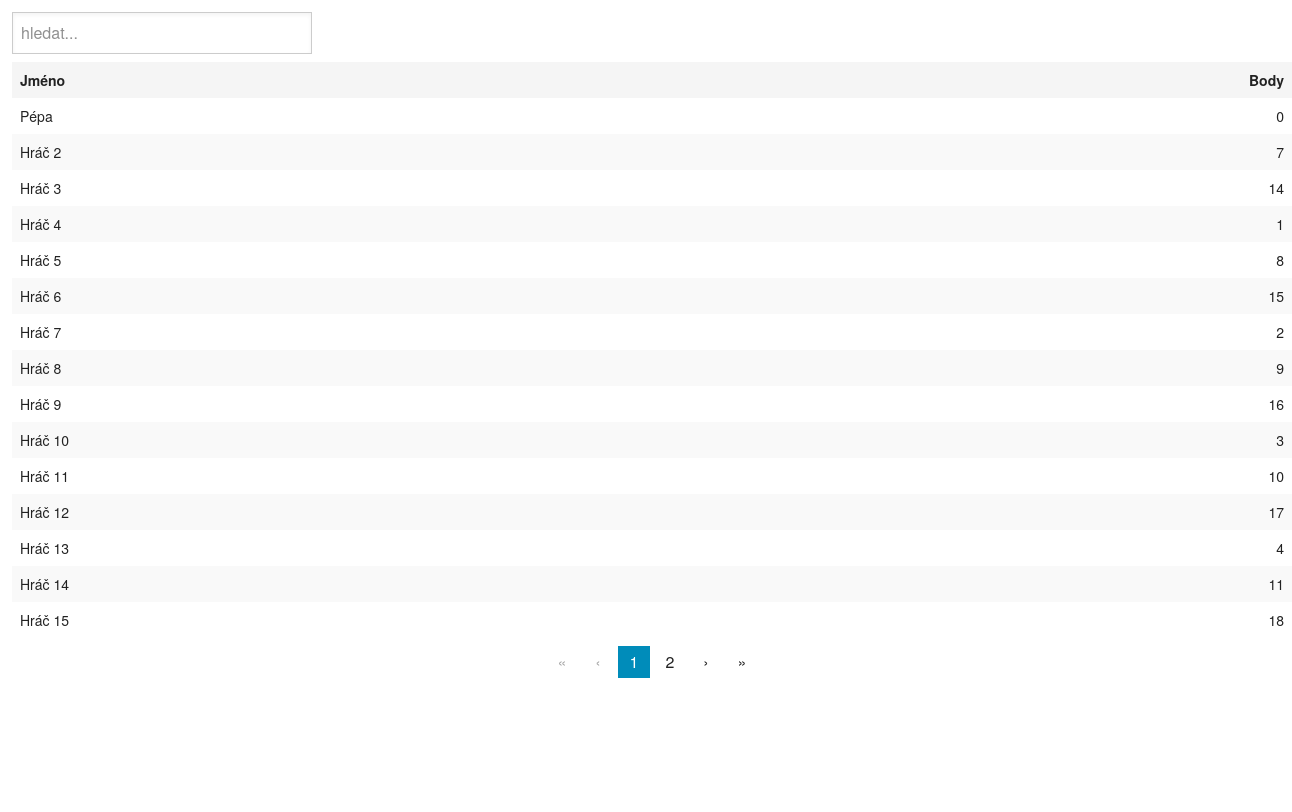
Test case: fast typing keeps the full value and debounces the URL update
Type "Hráč 1" into the field with placeholder "hledat...". click: {"x": 162, "y": 33}
box: [12,12,312,54]
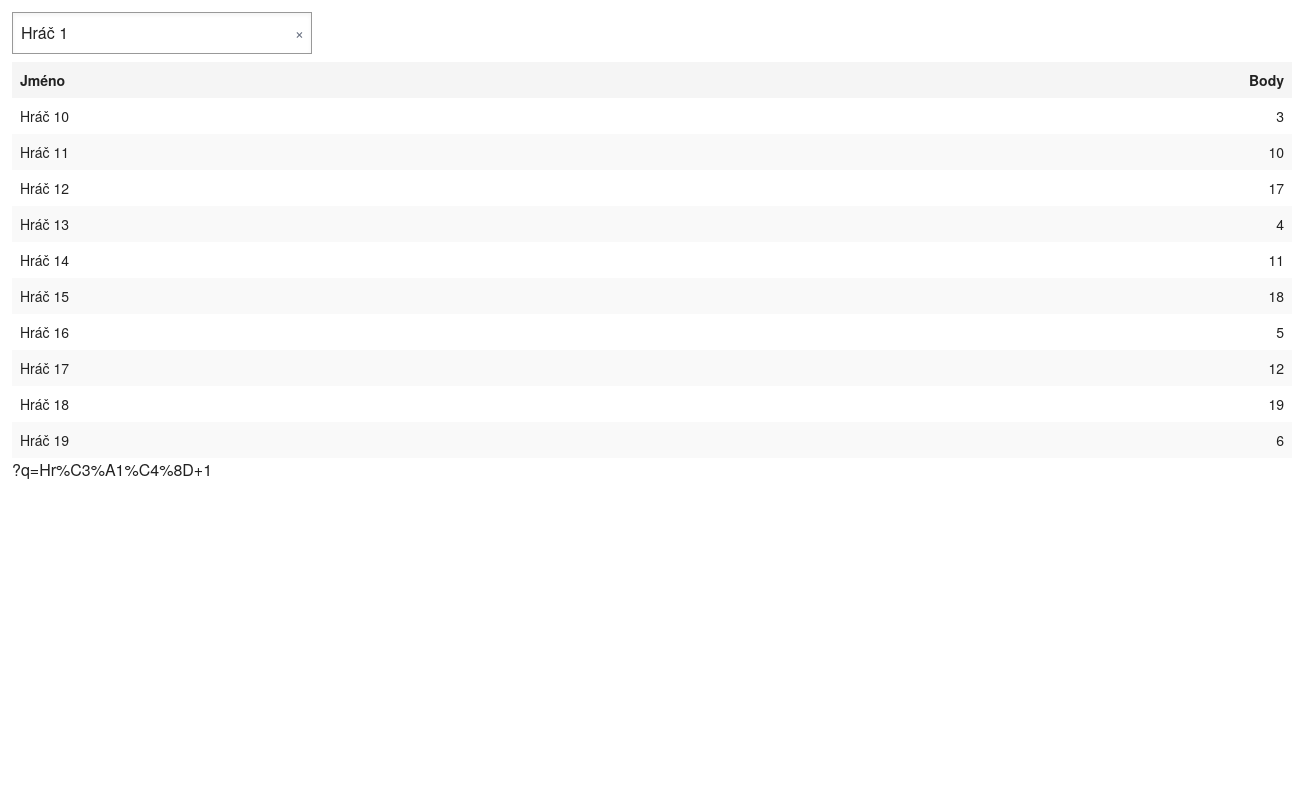
Expected: the text with test id "loc" shows "q=Hr%C3%A1%C4%8D+1", [12,458,212,481]
